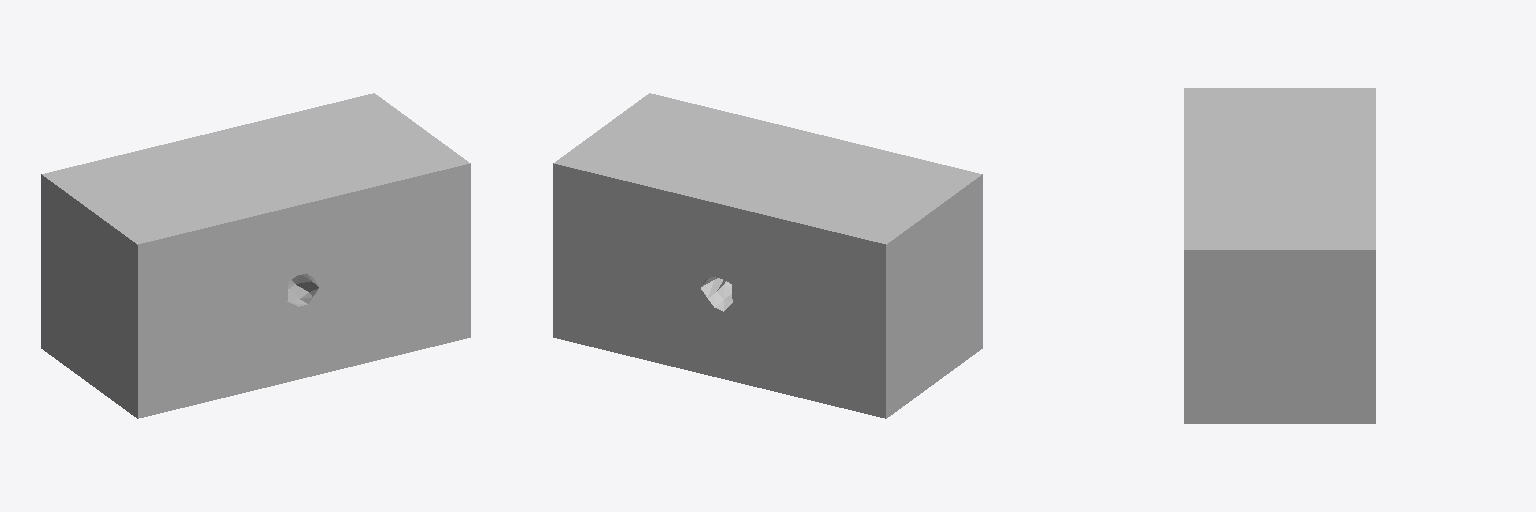
Rendered from tunnel_block_1_cube.obj.
3 views of the same model, side by side, from view 1: azimuth 30°, elevation 25°; view 2: azimuth 150°, elevation 25°; view 3: azimuth 270°, elevation 25° (orthographic).
Visible parts, largest first — view 1: Box001; view 2: Box001; view 3: Box001.
Part boxes in pixels (x1,y1,x2,y2): Box001: (41,93,470,418); Box001: (553,93,982,418); Box001: (1184,88,1375,423).
Bounding box in the file's own units: 200 × 100 × 100.